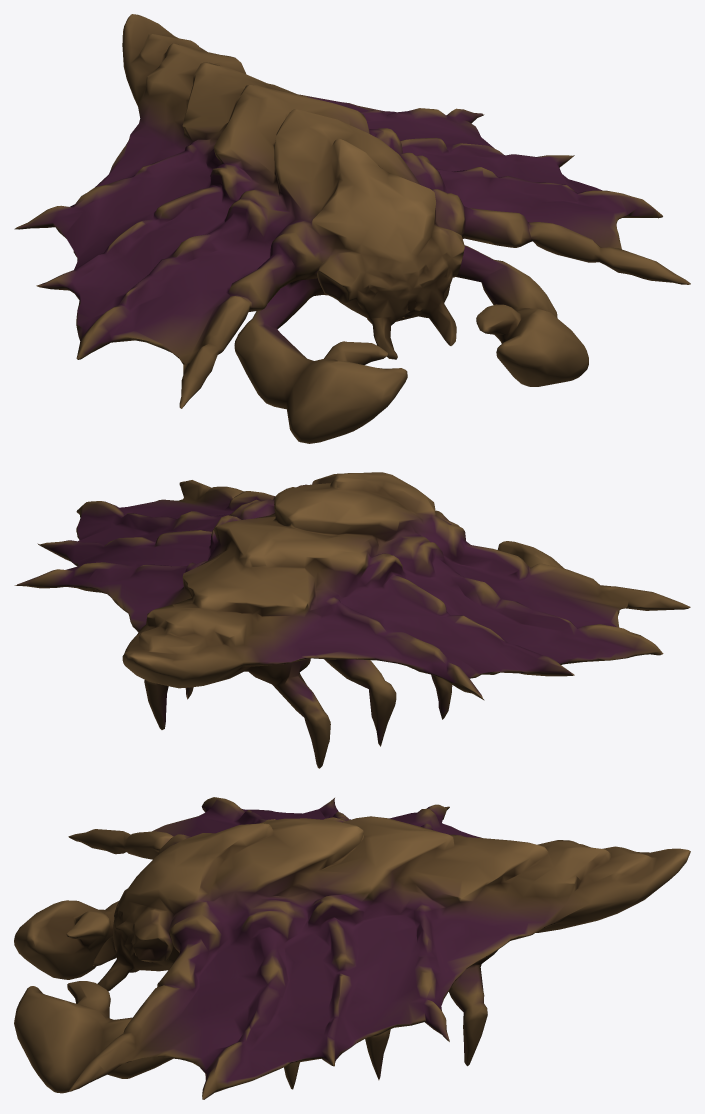
File: drone.glb
3 views of the same model, one above another, from view 1: azimuth 30°, elevation 25°; view 2: azimuth 150°, elevation 25°; view 3: azimuth 270°, elevation 25° (orthographic). The views are drawn at different scales.
Visible parts, largest first — view 1: body; view 2: body; view 3: body.
Boxes of the visible parts, x1,y1,x2,y2 form: body: (14,14,690,443); body: (14,472,690,768); body: (14,797,690,1099).
Bounding box in the file's own units: 1.33 × 0.4437 × 1.3.
